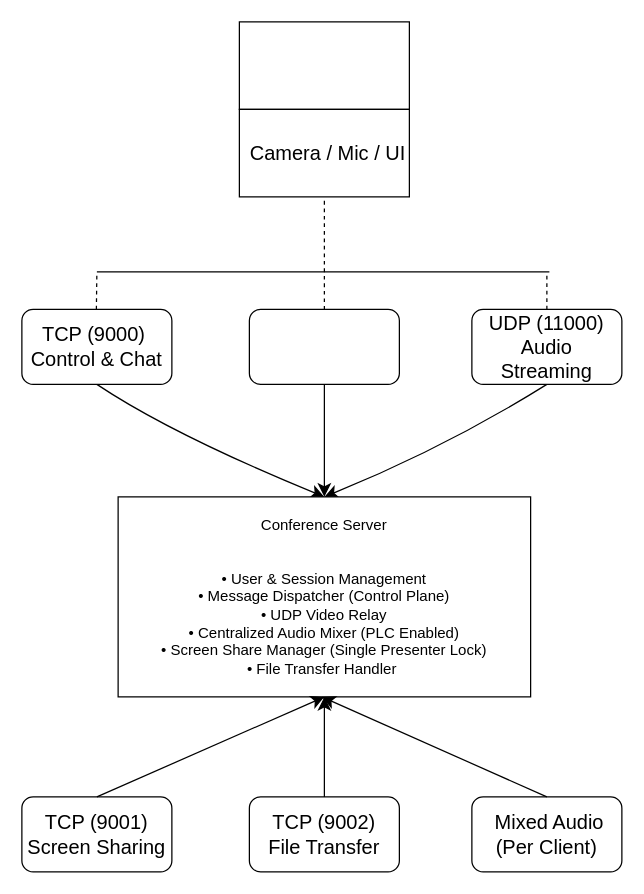
The diagram is 644 pixels wide and 894 high, and some of its shapes have lost their labels. The centre of each missing label's shape, as x and y in pixels:
"Client (CustomTkinter UI)" belongs at point 323,65.
"UDP (10000) Video Streaming" belongs at point 323,346.
